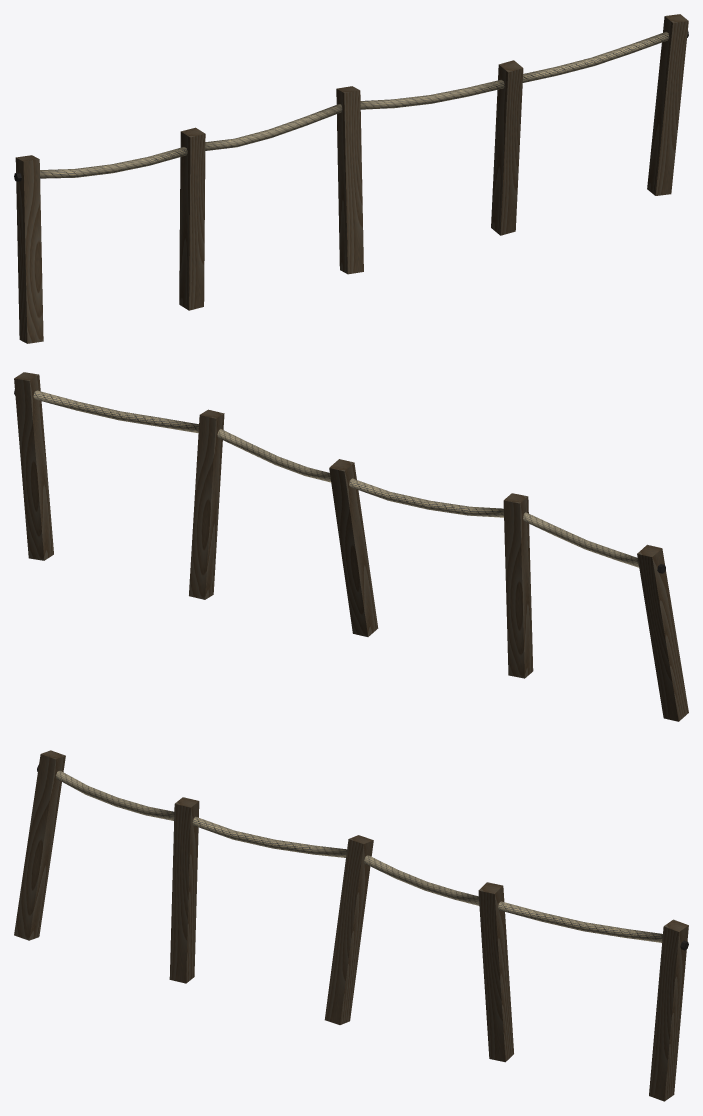
File: rope_fence02.dae
3 views of the same model, one above another, from view 1: azimuth 30°, elevation 25°; view 2: azimuth 150°, elevation 25°; view 3: azimuth 330°, elevation 25° (orthographic). The views are drawn at different scales.
Visible parts, largest first — view 1: RopeFence3; view 2: RopeFence3; view 3: RopeFence3.
Boxes of the visible parts, <box> form: RopeFence3: <box>14,14,688,343</box>; RopeFence3: <box>14,372,688,721</box>; RopeFence3: <box>14,750,688,1101</box>.
Bounding box in the file's own units: 4.22 × 0.4189 × 1.06.
Materials: 2 (2 with a texture image).
